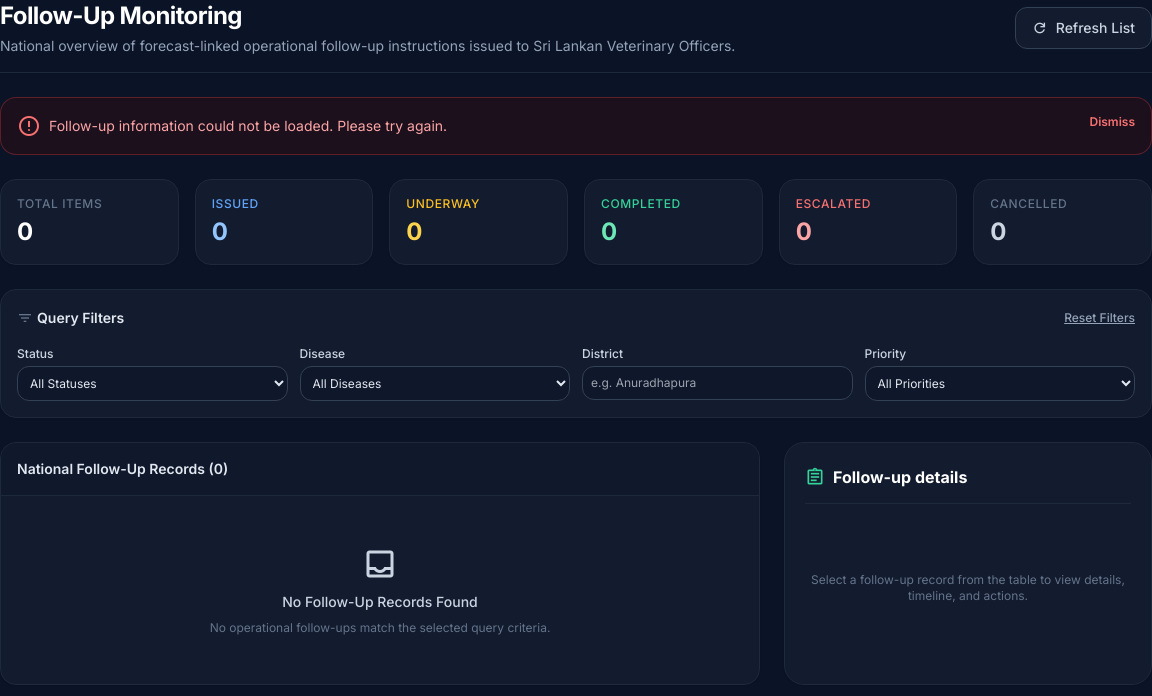
Test: DaphFollowUpMonitoring Component › Request Lifecycle & UI Presentation Fixes (Phase 7F) › clears previous error on Refresh List and replaces with new results
Expected: the text "Follow-up information could not be loaded. Please try again." is shown, [49, 116, 447, 136]
Click the button "Refresh List": (1083, 28) [1015, 7, 1151, 49]
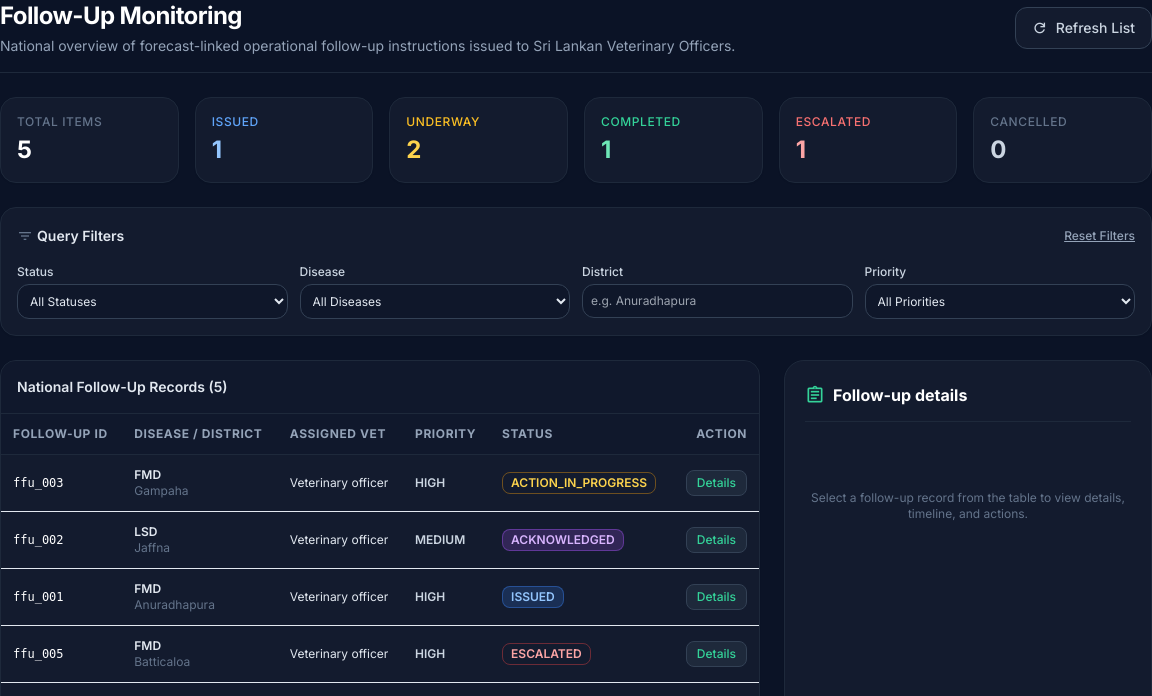
Now the text "Follow-up information could not be loaded" is gone
Now the text "ffu_001" is shown, box [1, 568, 122, 626]
